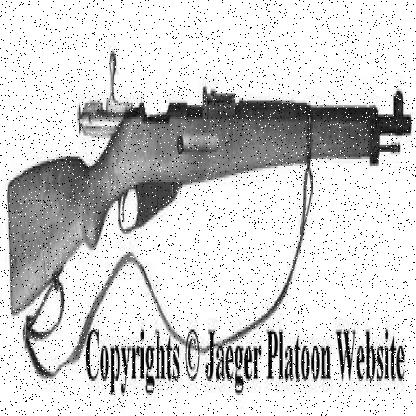rifle: (8, 40, 413, 318)
